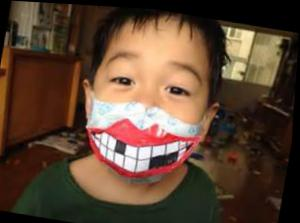WRONG: (77, 42, 217, 197)
